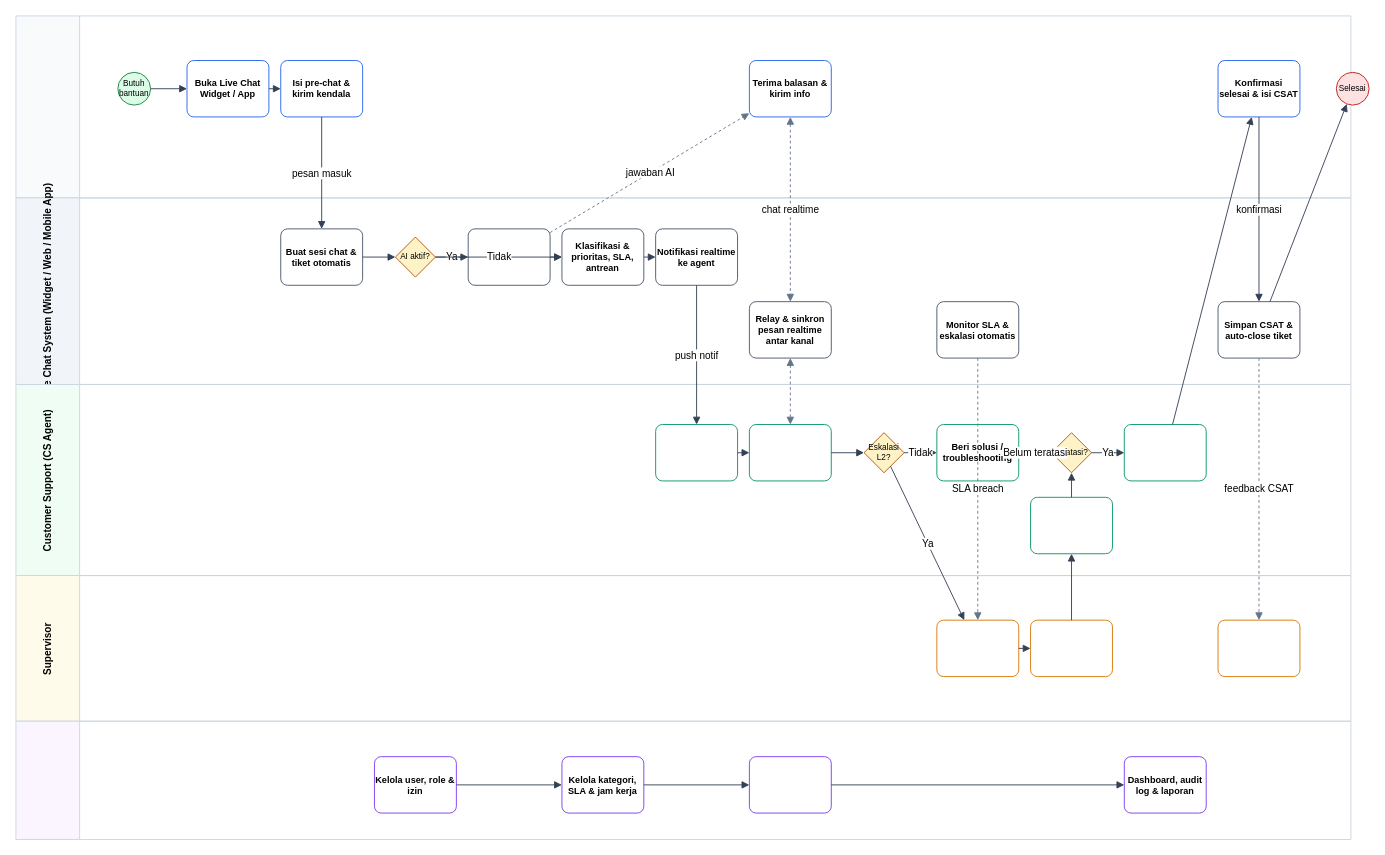
The diagram is 1385 pixels wide and 855 high, and some of its shapes have lost their labels. Each missing label, with the box of its shape:
Admin (periodik): (15, 720, 1351, 839)
AI jawab + artikel knowledge base: (467, 228, 550, 285)
Ambil tiket dari antrean: (655, 424, 738, 481)
Customer: (15, 15, 1351, 198)
Kelola knowledge base & canned: (748, 756, 831, 813)
Review eskalasi & tentukan level: (936, 619, 1019, 677)
Set Resolved + rangkuman solusi: (1123, 424, 1206, 481)
Setujui & pantau penanganan: (1030, 619, 1112, 677)
Tangani eskalasi (L2): (1030, 496, 1112, 554)
Tinjau CSAT rendah & kualitas layanan: (1217, 619, 1300, 677)
Verifikasi & analisis kendala: (748, 424, 831, 481)
